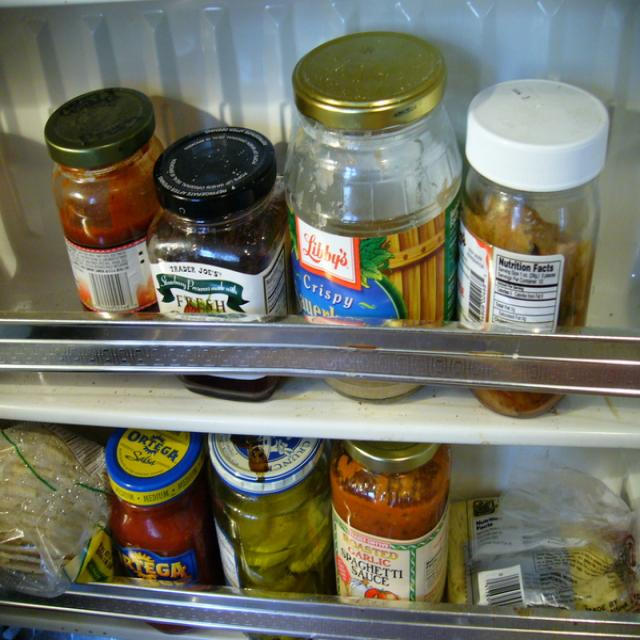container -bottle - jar: (285, 31, 461, 323), (459, 79, 608, 331), (44, 88, 163, 312), (148, 127, 289, 314), (209, 435, 334, 594), (331, 440, 452, 602), (106, 428, 221, 584)
